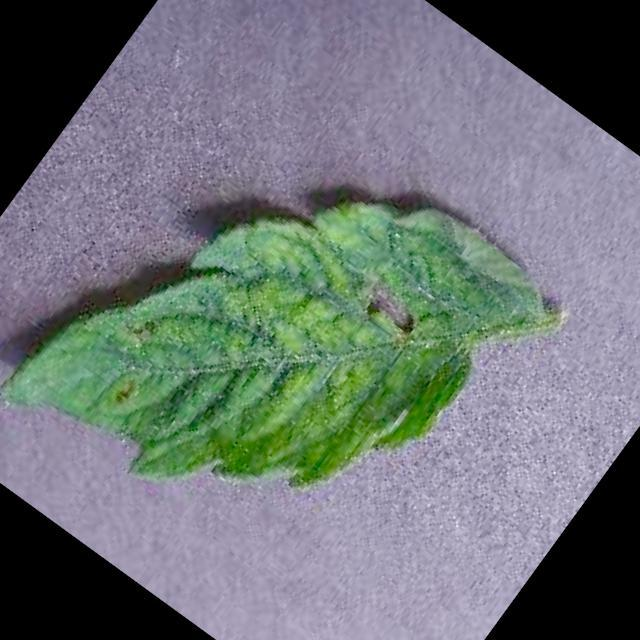Tomato mosaic virus leaf: (0, 53, 564, 640)
